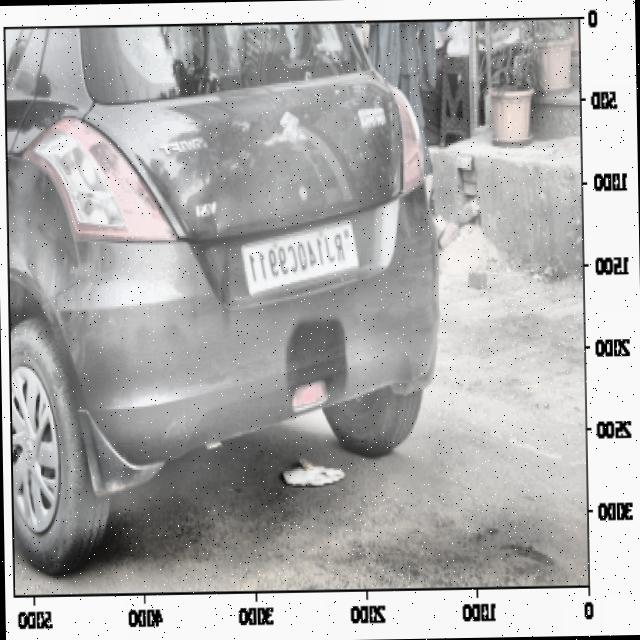license_plate: (242, 226, 349, 292)
